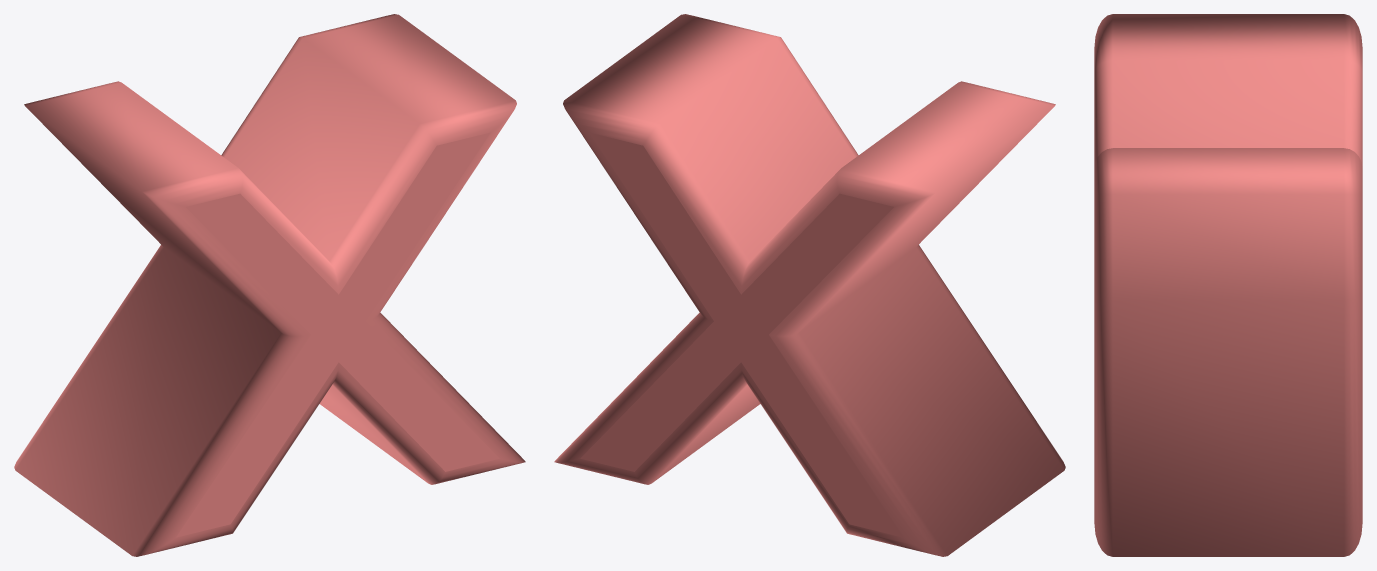
Rendered from letter_X.glb.
The picture shows the model from 3 angles, left to right: view 1: azimuth 30°, elevation 25°; view 2: azimuth 150°, elevation 25°; view 3: azimuth 270°, elevation 25°; orthographic projection.
Visible parts, largest first — view 1: Text; view 2: Text; view 3: Text.
Part boxes in pixels (left/top/right/bottom): Text: left=14, top=14, right=525, bottom=556; Text: left=554, top=14, right=1065, bottom=556; Text: left=1094, top=14, right=1362, bottom=556.
Bounding box in the file's own units: 0.8529 × 0.752 × 0.51.
